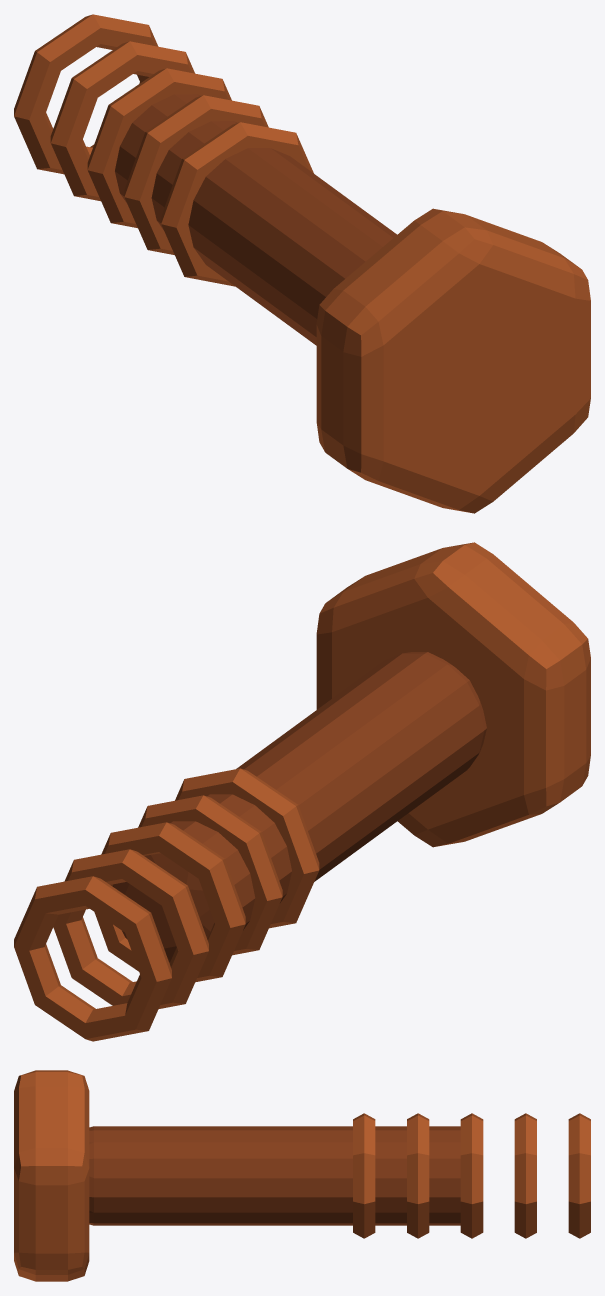
Rendered from scrap_rusted_bolt.glb.
The picture shows the model from 3 angles, top to bottom: view 1: azimuth 30°, elevation 25°; view 2: azimuth 150°, elevation 25°; view 3: azimuth 270°, elevation 25°; orthographic projection. The views are drawn at different scales.
Visible parts, largest first — view 1: RustedBolt_Mesh; view 2: RustedBolt_Mesh; view 3: RustedBolt_Mesh.
Part boxes in pixels (left/top/right/bottom): RustedBolt_Mesh: left=14, top=14, right=590, bottom=513; RustedBolt_Mesh: left=14, top=542, right=590, bottom=1041; RustedBolt_Mesh: left=14, top=1070, right=590, bottom=1281.
Size of the model in its own units: 0.1905 by 0.2127 by 0.5354.
